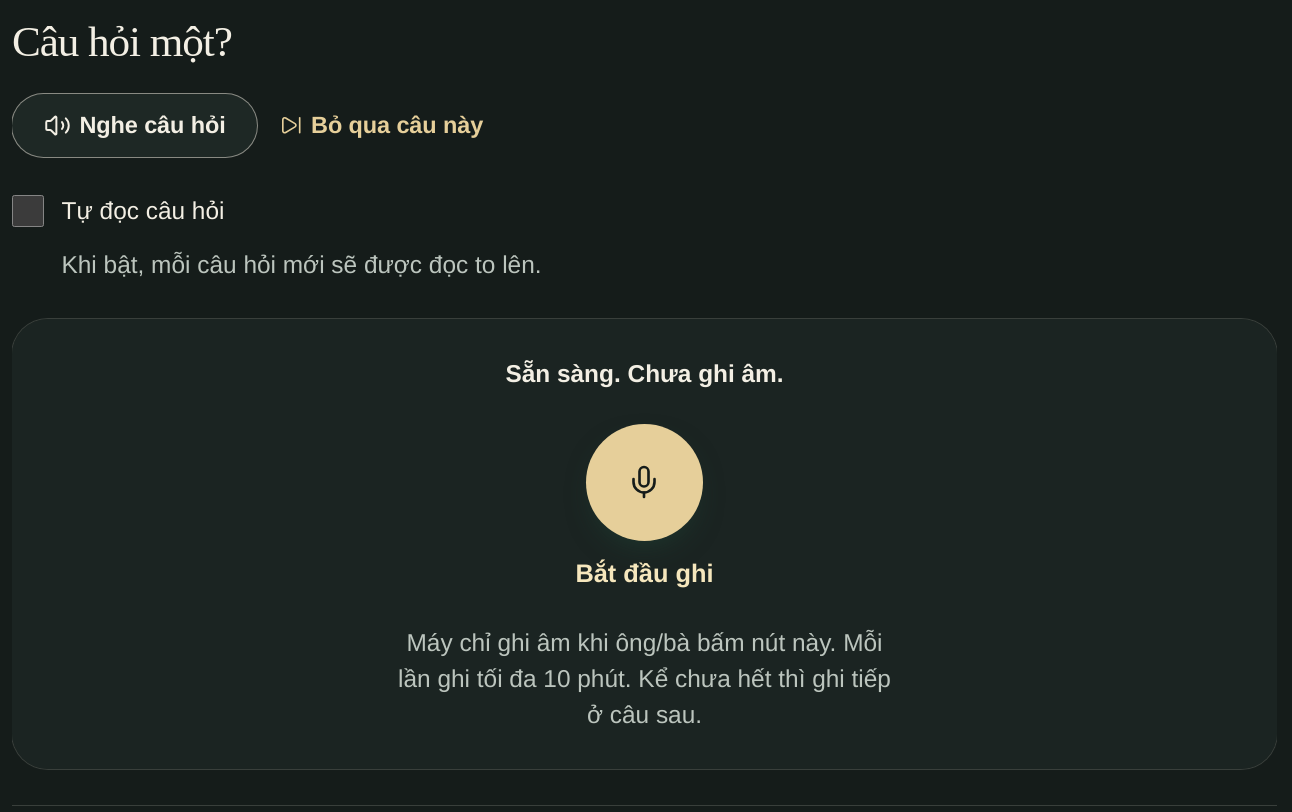
Scenario: SessionFlow › "Bỏ qua câu này" is there even with a single question and then falls back to free telling
Click the button "Bỏ qua câu này".
click(381, 125)  # box left=266, top=94, right=497, bottom=157
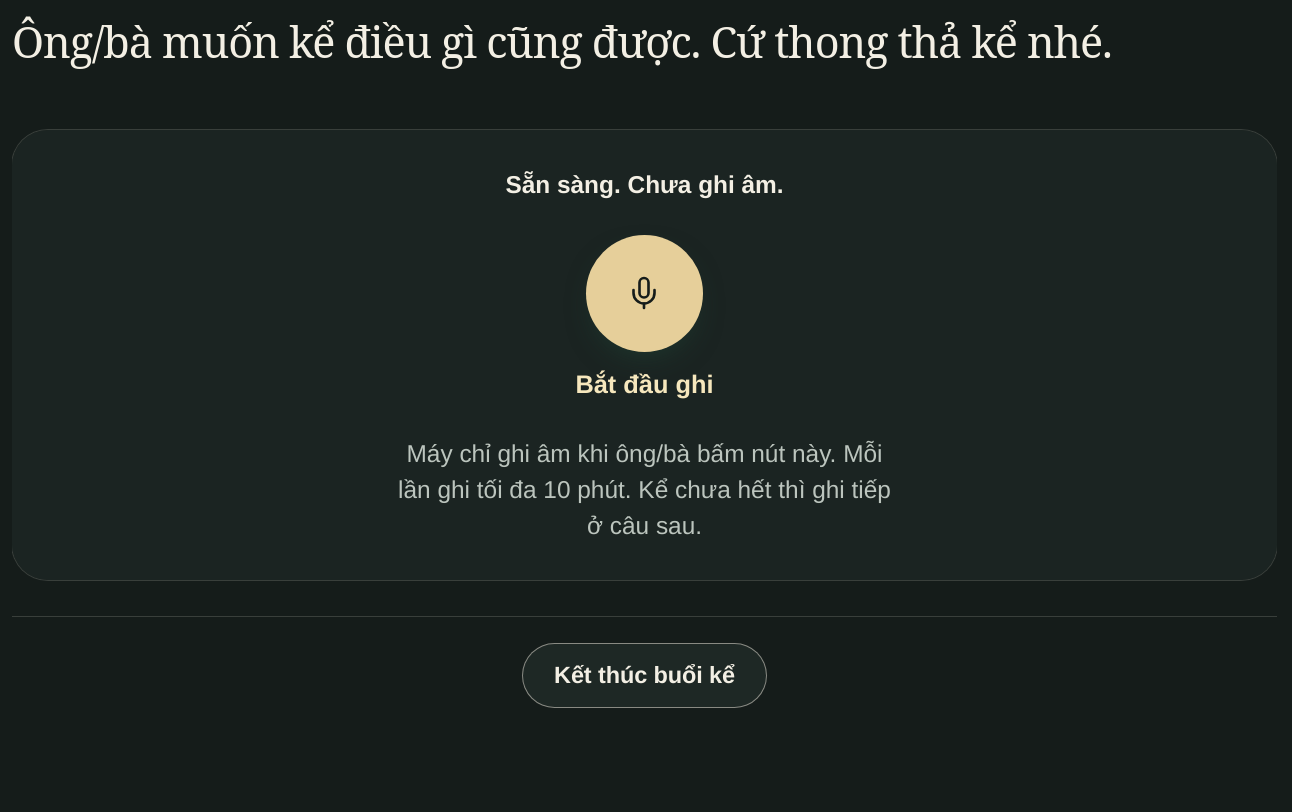
expect the heading shows "Ông/bà muốn kể điều gì cũng được": met, box left=12, top=12, right=1112, bottom=71
